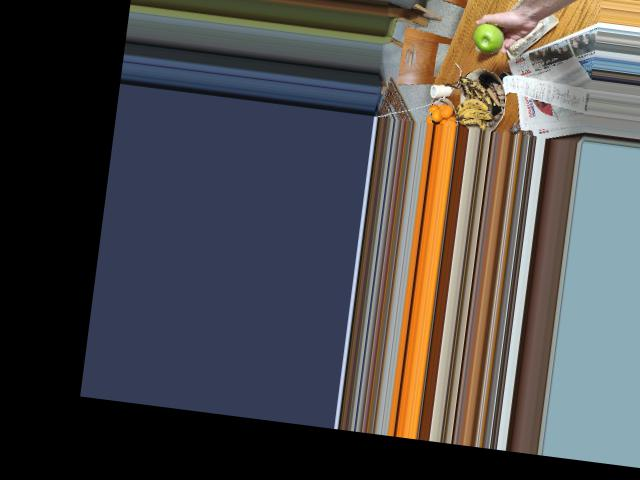apple: (468, 24, 512, 56)
